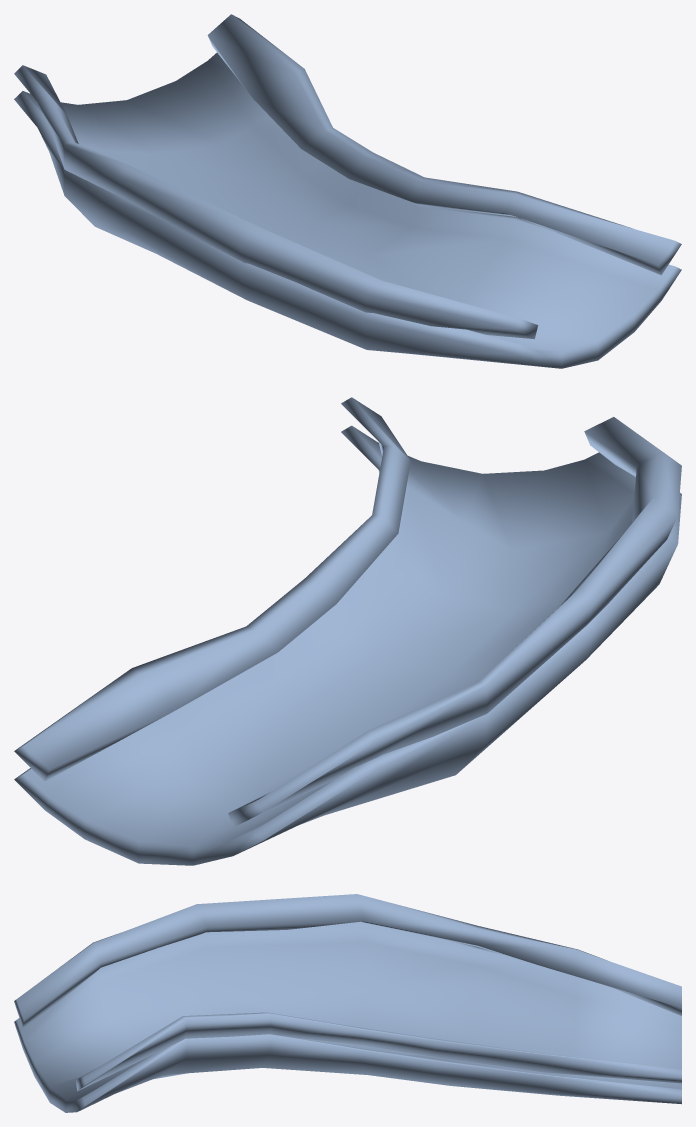
Rendered from junRoadShort5_20.fbx.
3 views of the same model, one above another, from view 1: azimuth 30°, elevation 25°; view 2: azimuth 150°, elevation 25°; view 3: azimuth 270°, elevation 25° (orthographic). The views are drawn at different scales.
Visible parts, largest first — view 1: roadShort5_20_LOD0, roadShort5_20_edge_LOD0; view 2: roadShort5_20_LOD0, roadShort5_20_edge_LOD0; view 3: roadShort5_20_LOD0, roadShort5_20_edge_LOD0.
Part boxes in pixels (x1=…): roadShort5_20_LOD0: x1=14, y1=52, x2=681, y2=368; roadShort5_20_edge_LOD0: x1=14, y1=14, x2=681, y2=339; roadShort5_20_LOD0: x1=14, y1=425, x2=681, y2=865; roadShort5_20_edge_LOD0: x1=14, y1=397, x2=681, y2=827; roadShort5_20_LOD0: x1=14, y1=922, x2=681, y2=1112; roadShort5_20_edge_LOD0: x1=14, y1=894, x2=681, y2=1091.
Bounding box in the file's own units: 1134 × 434 × 2048.
